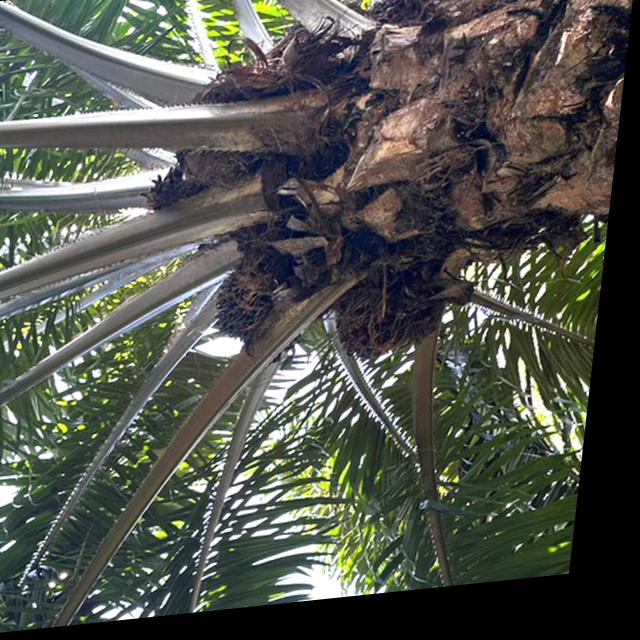unripe: (213, 249, 305, 365)
